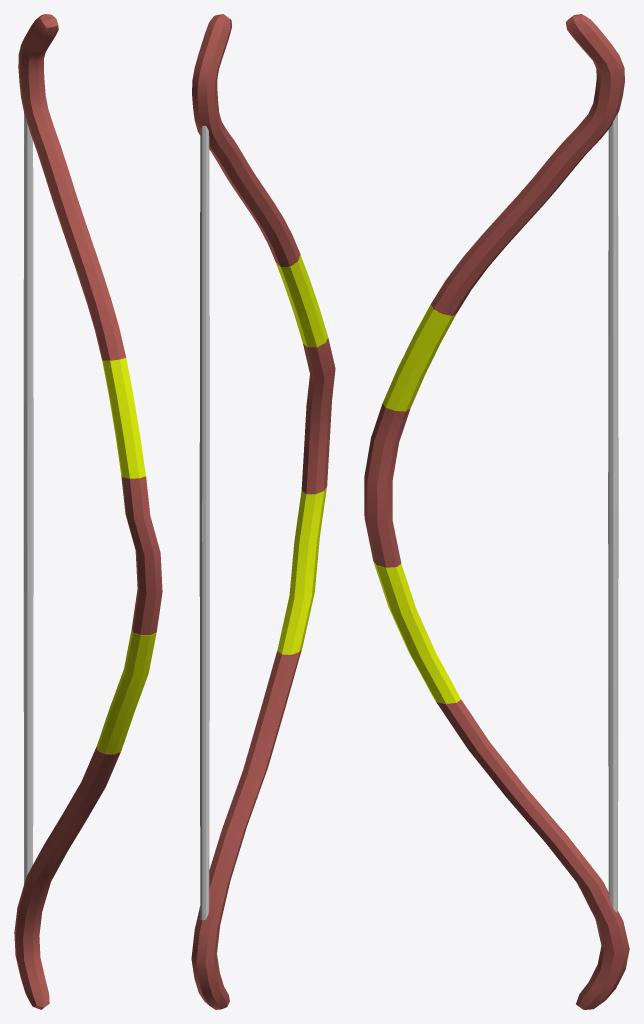
Rendered from bowandarrow.fbx.
3 views of the same model, side by side, from view 1: azimuth 30°, elevation 25°; view 2: azimuth 150°, elevation 25°; view 3: azimuth 270°, elevation 25° (orthographic).
Visible parts, largest first — view 1: bow.002; view 2: bow.002; view 3: bow.002.
Boxes of the visible parts, x1,y1,x2,y2 form: bow.002: (14, 14, 162, 1009); bow.002: (191, 14, 335, 1009); bow.002: (364, 14, 629, 1009).
Bounding box in the file's own units: 35.53 × 1135 × 274.
